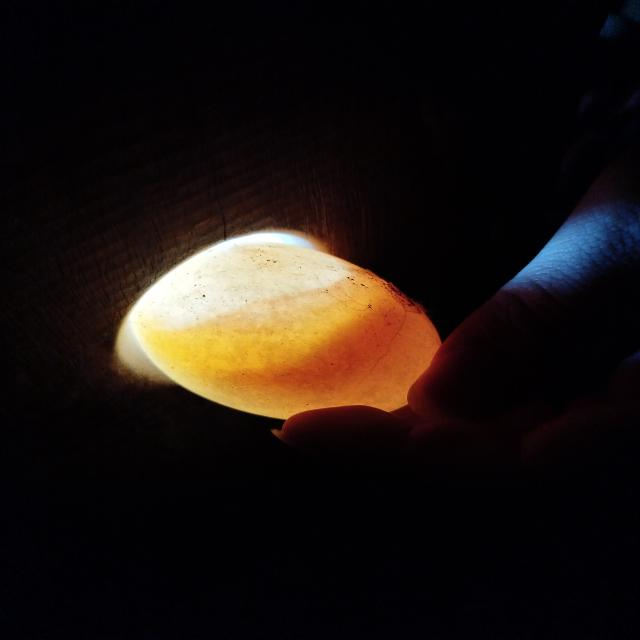Camara de Ar: (139, 246, 346, 328)
Gema Quebrada: (231, 271, 442, 397)
Rachadura: (359, 307, 419, 382)
